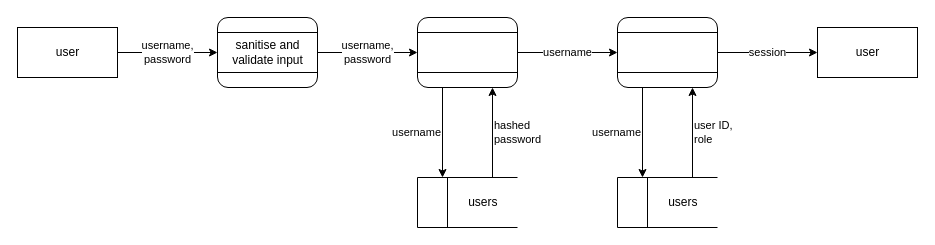
This 935x245 diagram has some shape labels left out. Each missing label, with the centre of its shape:
create browser session: (667,52)
verify that passwords match: (467,52)
